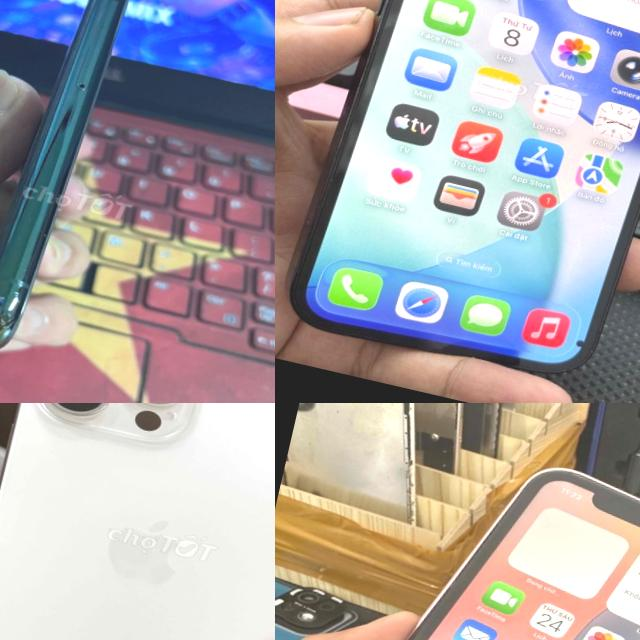gen_11: (0, 0, 183, 387)
gen_12_13: (279, 0, 640, 392)
gen_15: (0, 403, 275, 640)
gen_x_xs: (407, 468, 640, 640)
scratch: (0, 182, 73, 298), (58, 0, 128, 91)
screen_defect: (564, 318, 598, 362)
